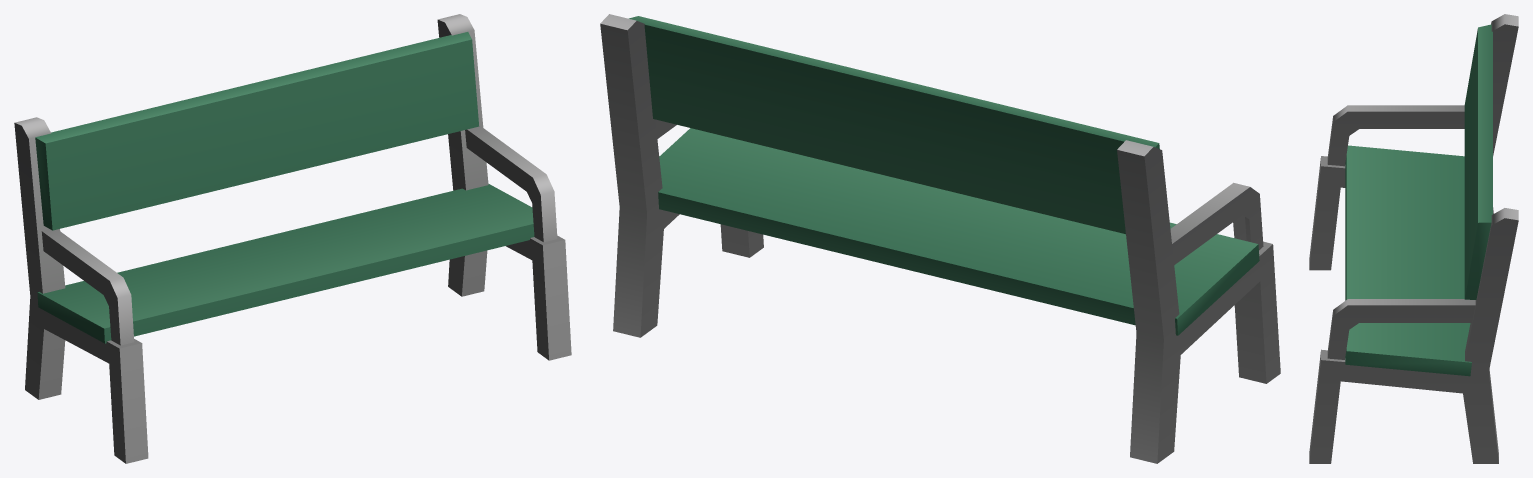
File: Bench_Green.fbx
3 views of the same model, side by side, from view 1: azimuth 30°, elevation 25°; view 2: azimuth 150°, elevation 25°; view 3: azimuth 270°, elevation 25° (orthographic). The views are drawn at different scales.
Parts seen in each view (by area): view 1: Bench_Green; view 2: Bench_Green; view 3: Bench_Green.
Boxes of the visible parts, left/top/right/bottom form: Bench_Green: left=14, top=14, right=571, bottom=463; Bench_Green: left=600, top=14, right=1280, bottom=463; Bench_Green: left=1309, top=14, right=1518, bottom=463.
Size of the model in its own units: 173 by 96.23 by 74.34.
